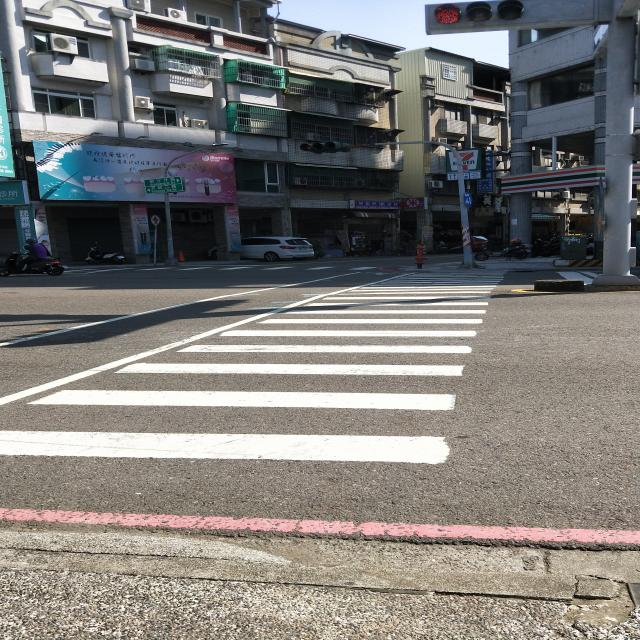person: (18, 239, 49, 272)
zebra crossing: (0, 273, 508, 466), (68, 267, 377, 272)
